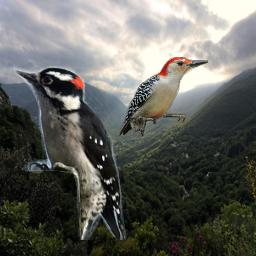Woodpecker: (14, 66, 126, 240), (118, 57, 208, 137)
